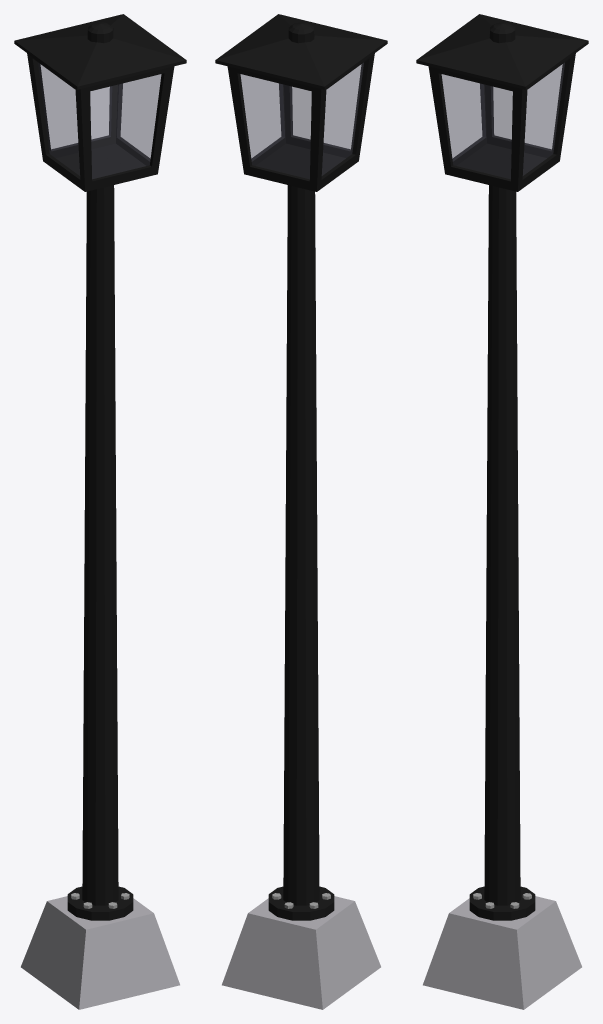
The model's file is classic-lamppost.obj.
3 renders of one model, left to right at view 1: azimuth 30°, elevation 25°; view 2: azimuth 150°, elevation 25°; view 3: azimuth 330°, elevation 25°, orthographic.
Visible parts, largest first — view 1: Light_post; view 2: Light_post; view 3: Light_post.
Boxes of the visible parts, <box> form: Light_post: <box>14,14,186,1009</box>; Light_post: <box>215,14,387,1009</box>; Light_post: <box>416,14,588,1009</box>.
Size of the model in its own units: 2.4 by 20.01 by 2.4.
